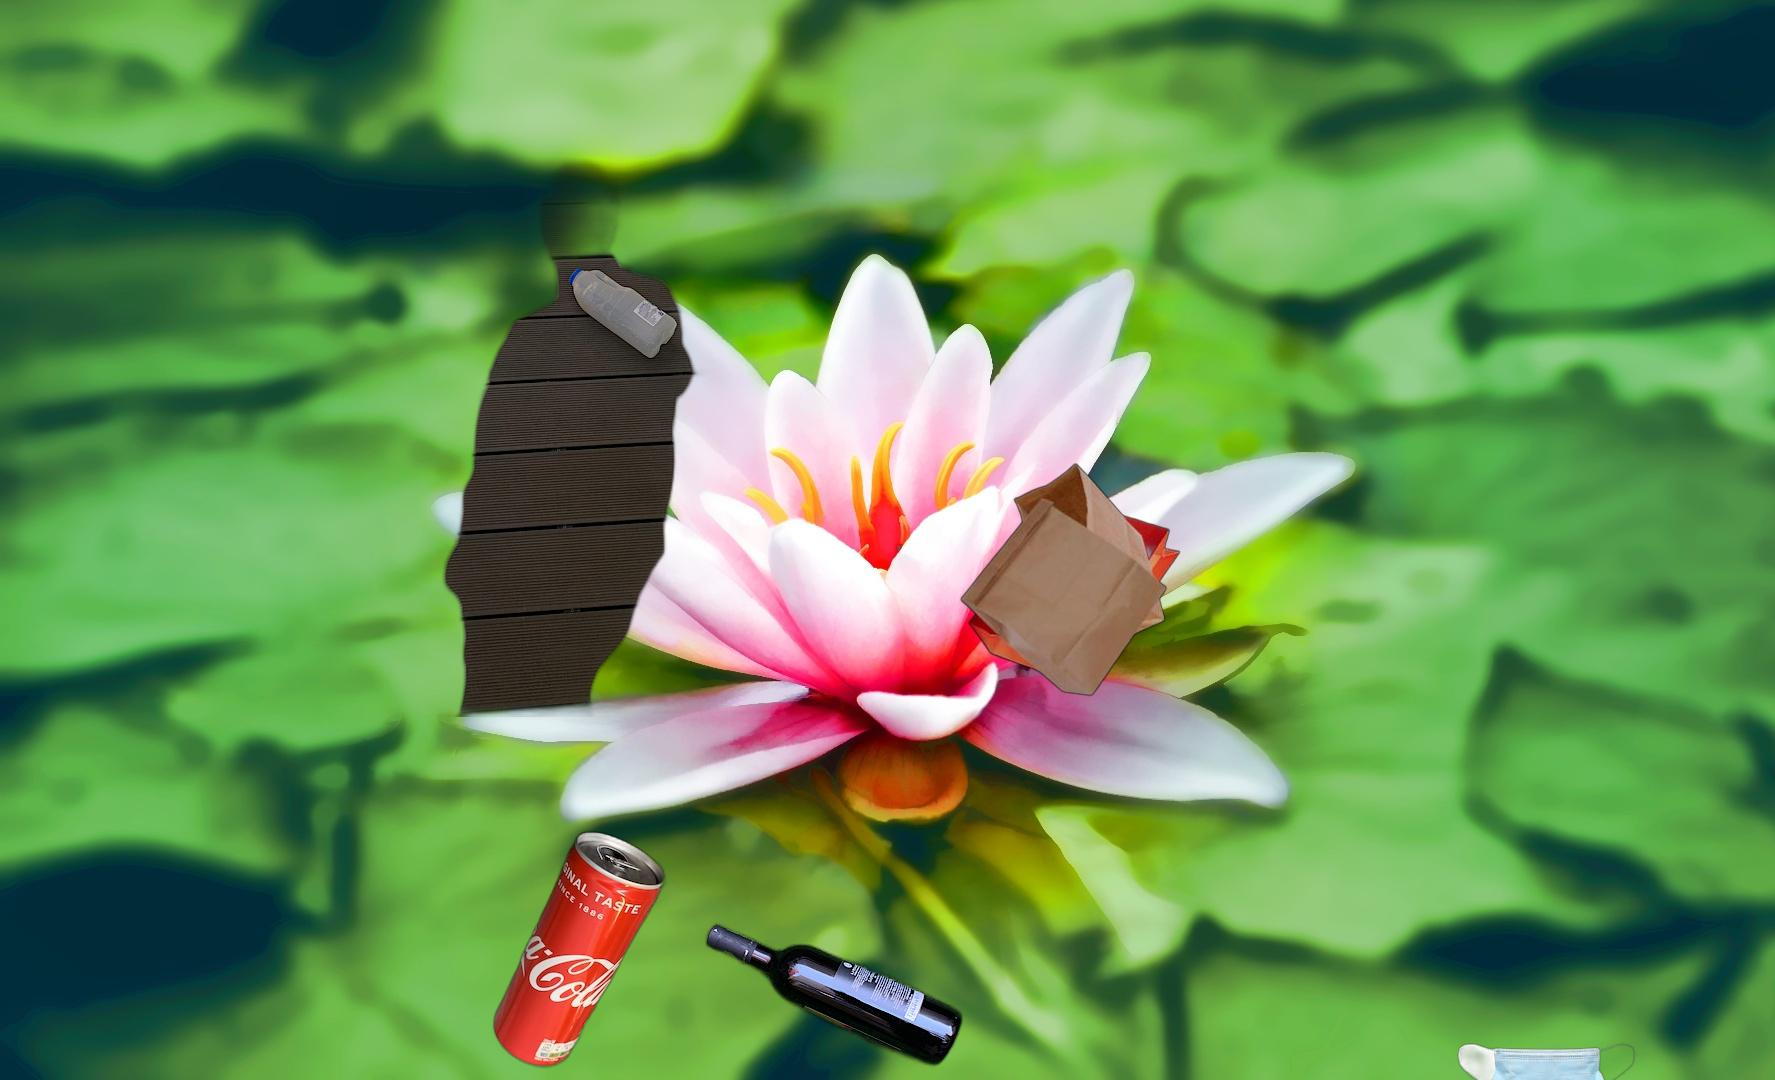glass: (702, 919, 966, 1071)
metal-cans: (489, 826, 669, 1074), (1762, 1012, 1775, 1080)
paper-bag: (958, 461, 1183, 698)
plastic-bottles: (423, 153, 757, 717)
trash: (1455, 1041, 1638, 1080)
